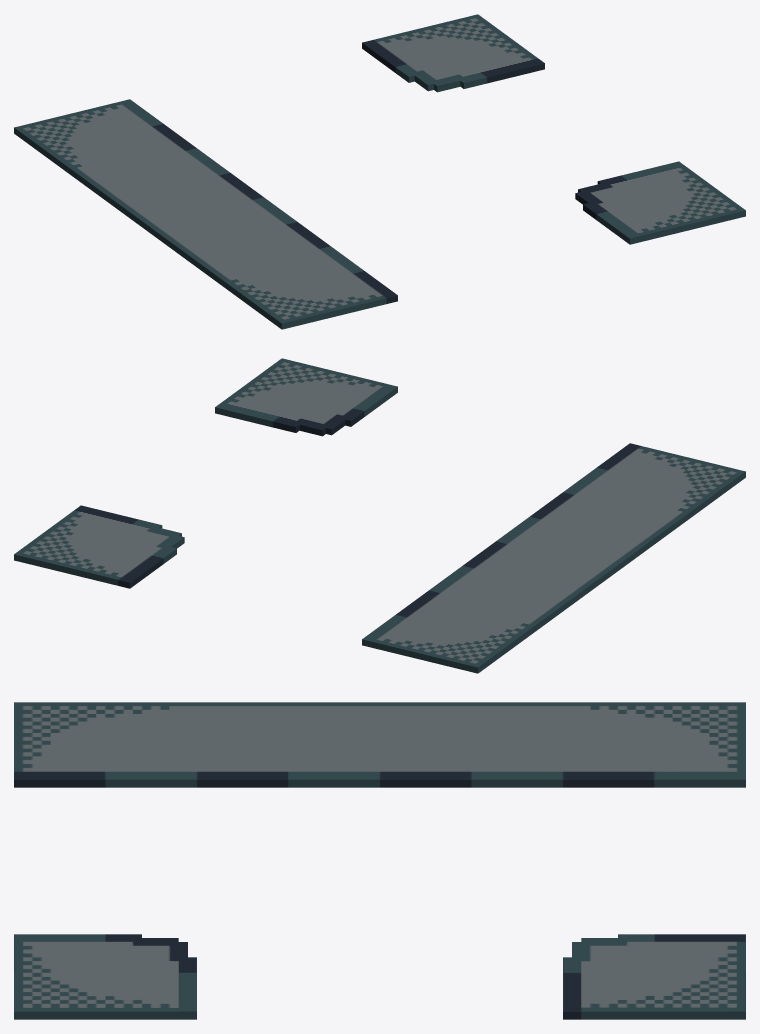
The model's file is road_3_overtile.glb.
The picture shows the model from 3 angles, top to bottom: view 1: azimuth 30°, elevation 25°; view 2: azimuth 150°, elevation 25°; view 3: azimuth 270°, elevation 25°; orthographic projection. The views are drawn at different scales.
Parts seen in each view (by area): view 1: road_3_overtile; view 2: road_3_overtile; view 3: road_3_overtile.
Part boxes in pixels (x1=…): road_3_overtile: x1=14, y1=14, x2=745, y2=329; road_3_overtile: x1=14, y1=358, x2=745, y2=673; road_3_overtile: x1=14, y1=702, x2=745, y2=1019.
Bounding box in the file's own units: 8 × 0.1 × 8.
1 material, 1 textured.
